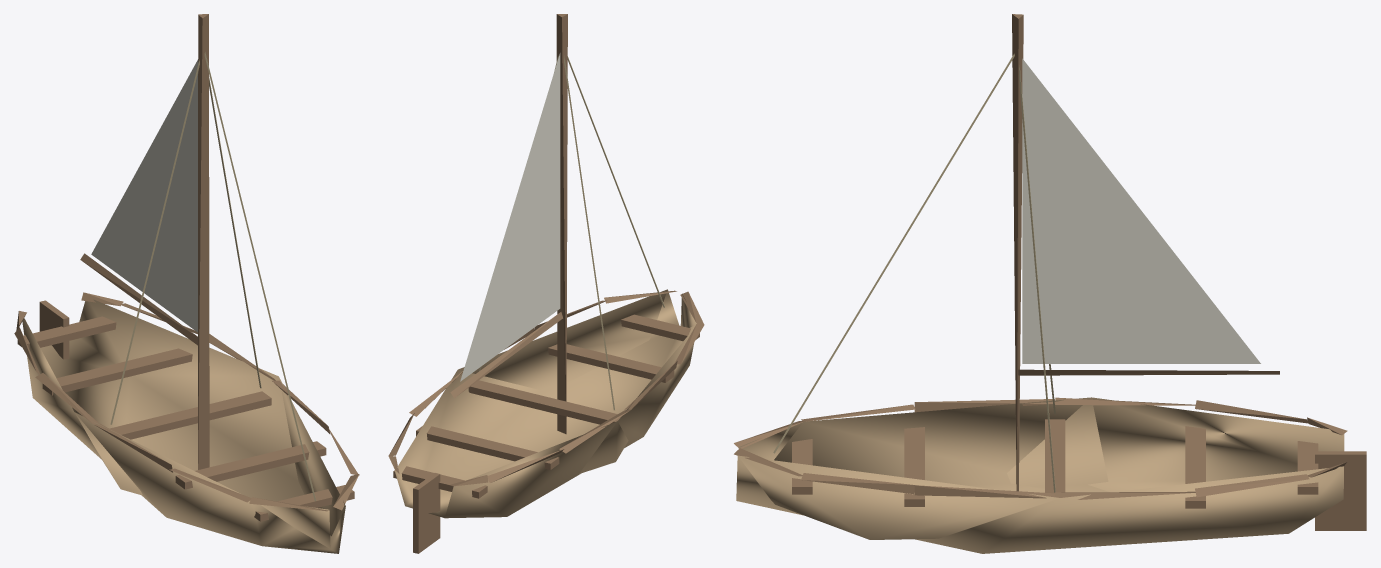
File: boats.sloop.lod2.glb
3 views of the same model, side by side, from view 1: azimuth 30°, elevation 25°; view 2: azimuth 150°, elevation 25°; view 3: azimuth 270°, elevation 25° (orthographic). The views are drawn at different scales.
Visible parts, largest first — view 1: Hull, Sail, Mast, Seat.002, Seat.003, Seat.001, Seat.004, Boom, Rigging.002, Rudder, Rigging, Seat (+4 smaller); view 2: Hull, Sail, Mast, Seat.002, Rudder, Seat.003, Seat.001, Boom, Seat, Seat.004, Rigging, Rigging.002 (+2 smaller); view 3: Hull, Sail, Mast, Rudder, Seat.002, Seat.003, Boom, Seat.001, Gunwale.005, Rigging.002, Rigging.001, Gunwale.003 (+5 smaller).
Part boxes in pixels (left/top/right/bottom): Hull: left=22, top=299, right=345, bottom=553; Sail: left=91, top=59, right=198, bottom=332; Mast: left=198, top=14, right=209, bottom=469; Seat.002: left=109, top=391, right=271, bottom=439; Seat.003: left=42, top=348, right=192, bottom=395; Seat.001: left=175, top=441, right=326, bottom=489; Seat.004: left=17, top=316, right=116, bottom=348; Boom: left=80, top=253, right=197, bottom=345; Rigging.002: left=204, top=52, right=316, bottom=501; Rudder: left=39, top=300, right=69, bottom=359; Rigging: left=110, top=59, right=199, bottom=424; Seat: left=254, top=485, right=354, bottom=521; Hull: left=395, top=289, right=696, bottom=518; Sail: left=460, top=53, right=560, bottom=381; Mast: left=556, top=14, right=567, bottom=434; Seat.002: left=468, top=380, right=621, bottom=424; Rudder: left=413, top=473, right=440, bottom=553; Seat.003: left=416, top=426, right=559, bottom=469; Seat.001: left=547, top=344, right=674, bottom=382; Boom: left=450, top=312, right=562, bottom=397; Seat: left=621, top=314, right=699, bottom=341; Seat.004: left=393, top=466, right=487, bottom=498; Rigging: left=564, top=55, right=614, bottom=410; Rigging.002: left=567, top=56, right=664, bottom=307; Hull: left=736, top=397, right=1344, bottom=553; Sail: left=1022, top=58, right=1260, bottom=363; Mast: left=1012, top=14, right=1023, bottom=491; Rudder: left=1315, top=451, right=1366, bottom=530; Seat.002: left=1045, top=419, right=1065, bottom=493; Seat.003: left=1185, top=426, right=1205, bottom=508; Boom: left=1018, top=369, right=1279, bottom=375; Seat.001: left=904, top=427, right=924, bottom=506; Gunwale.005: left=914, top=485, right=1055, bottom=498; Rigging.002: left=773, top=53, right=1014, bottom=453; Rigging.001: left=1018, top=66, right=1055, bottom=492; Gunwale.003: left=801, top=473, right=914, bottom=494.
Bounding box in the file's own units: 2.54 × 6.05 × 6.76.
